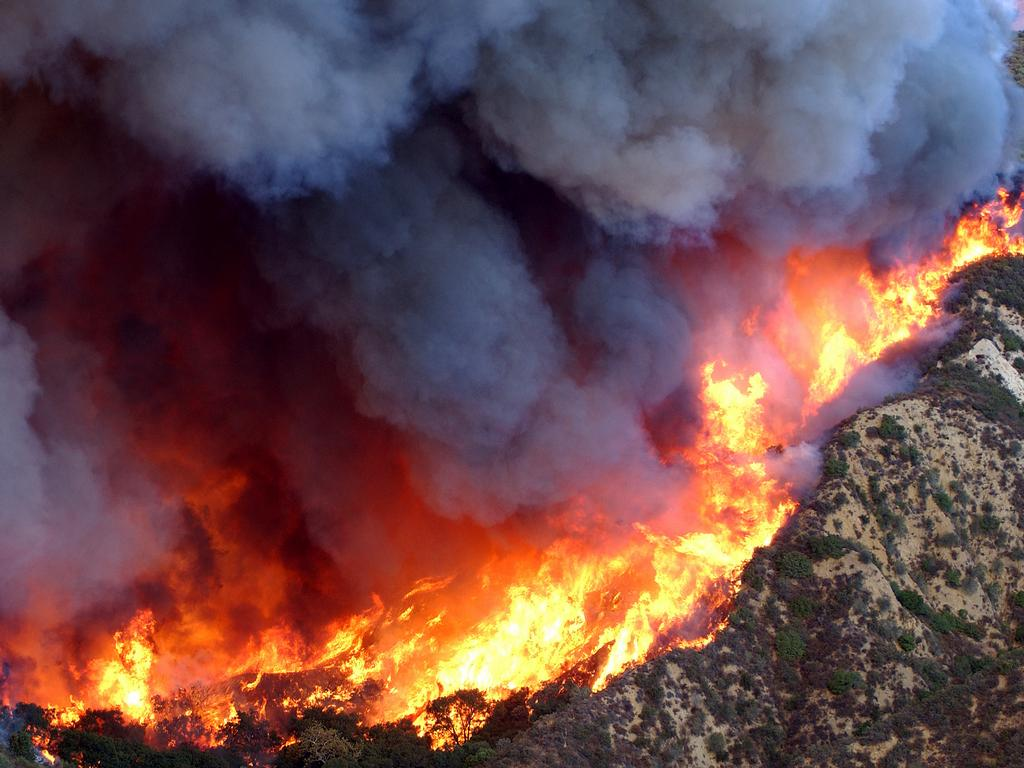fire: (52, 198, 1019, 763)
